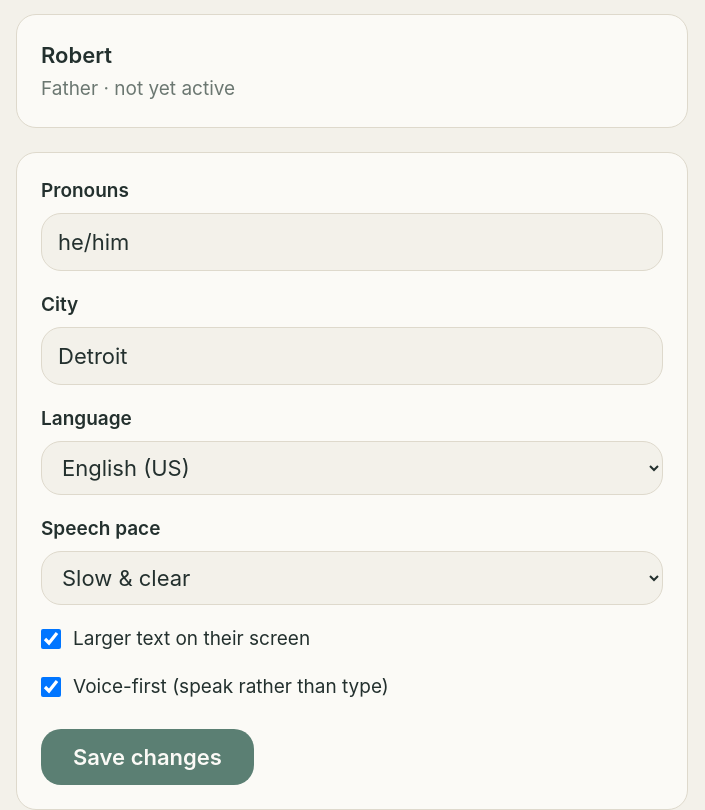
Test: ParentProfilePage › surfaces a save error from the API
The image size is (705, 810).
(page scrolled)
Click the button "Save changes": (147, 757) [41, 729, 254, 785]
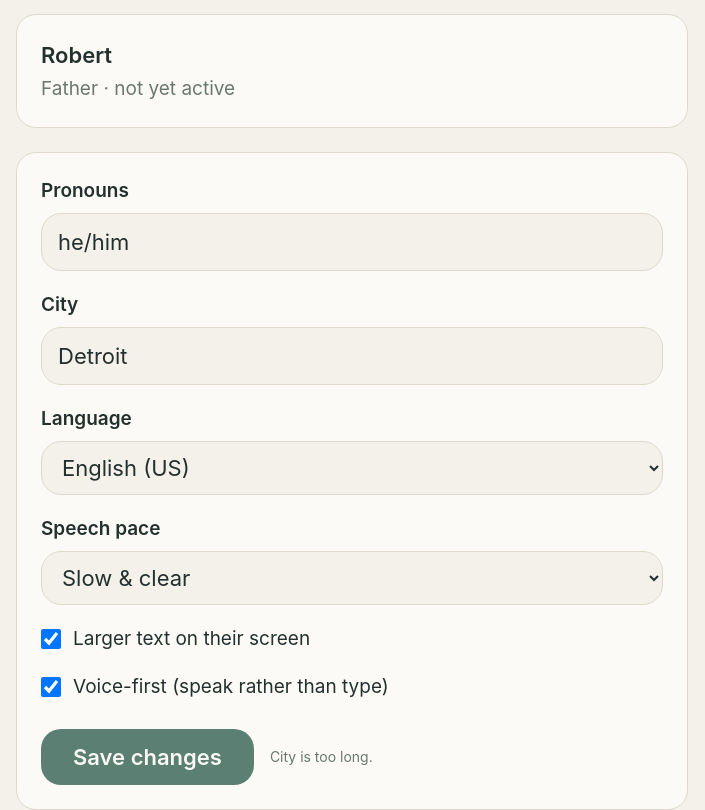
Check: the text "City is too long." is shown, box [270, 747, 373, 767]
